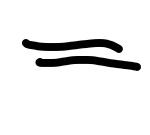eqv: (22, 39, 141, 71)
